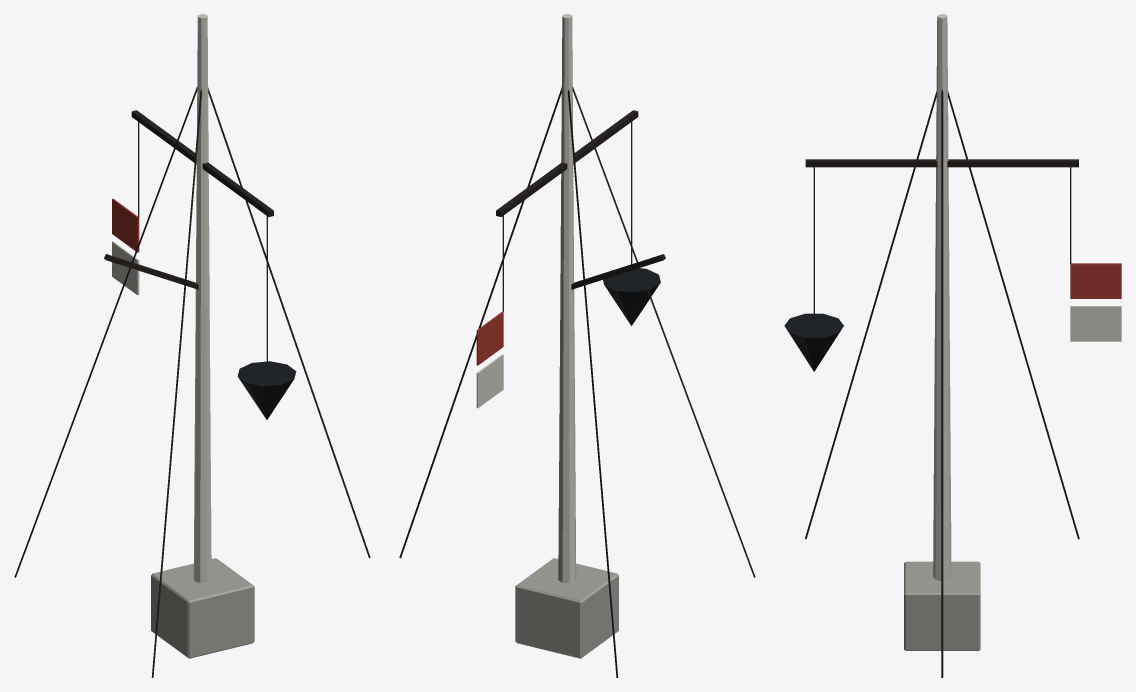
The model's file is lighthouse_signal_mast.glb.
3 views of the same model, side by side, from view 1: azimuth 30°, elevation 25°; view 2: azimuth 150°, elevation 25°; view 3: azimuth 270°, elevation 25° (orthographic).
Visible parts, largest first — view 1: signal_mast_pole, signal_mast_foot, signal_mast_lines, signal_mast_yard, signal_mast_cone, signal_mast_flags; view 2: signal_mast_pole, signal_mast_foot, signal_mast_lines, signal_mast_yard, signal_mast_flags, signal_mast_cone; view 3: signal_mast_pole, signal_mast_foot, signal_mast_lines, signal_mast_flags, signal_mast_yard, signal_mast_cone.
Part boxes in pixels (x1,y1,x2,y2): signal_mast_pole: (193,14,211,582); signal_mast_foot: (151,558,254,658); signal_mast_lines: (14,86,370,677); signal_mast_yard: (104,110,273,289); signal_mast_cone: (237,361,296,419); signal_mast_flags: (112,198,139,295); signal_mast_pole: (558,14,576,582); signal_mast_foot: (515,558,618,658); signal_mast_lines: (399,86,755,677); signal_mast_yard: (496,110,665,289); signal_mast_flags: (476,311,503,408); signal_mast_cone: (603,268,660,325); signal_mast_pole: (933,14,951,580); signal_mast_foot: (904,561,980,650); signal_mast_lines: (805,89,1079,677); signal_mast_flags: (1070,263,1121,341); signal_mast_yard: (805,159,1078,167); signal_mast_cone: (784,313,843,371).
Size of the model in its own units: 7.74 by 16 by 7.9.
